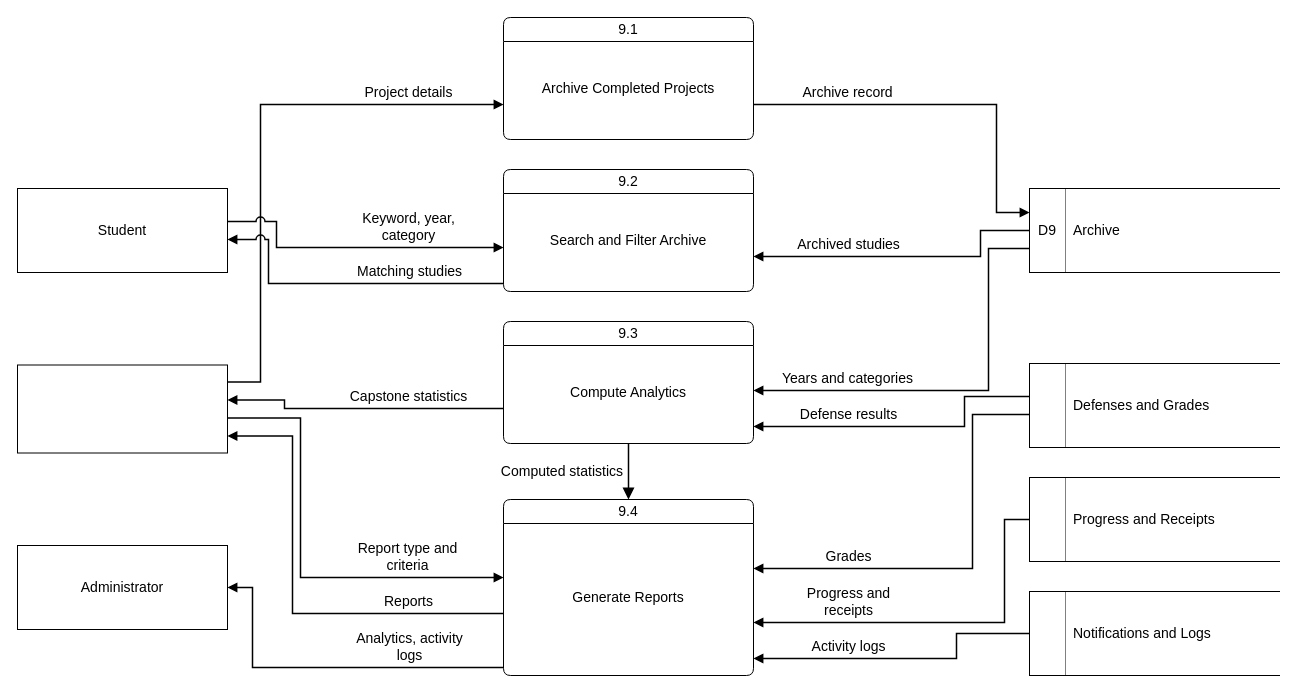
The diagram is 1297 pixels wide and 694 high, and some of its shapes have lost their labels. The centre of each missing label's shape, as x and y in pixels:
CaPSA: the point at 122,408
D10: the point at 1047,633
D7: the point at 1047,405
D8: the point at 1047,519
